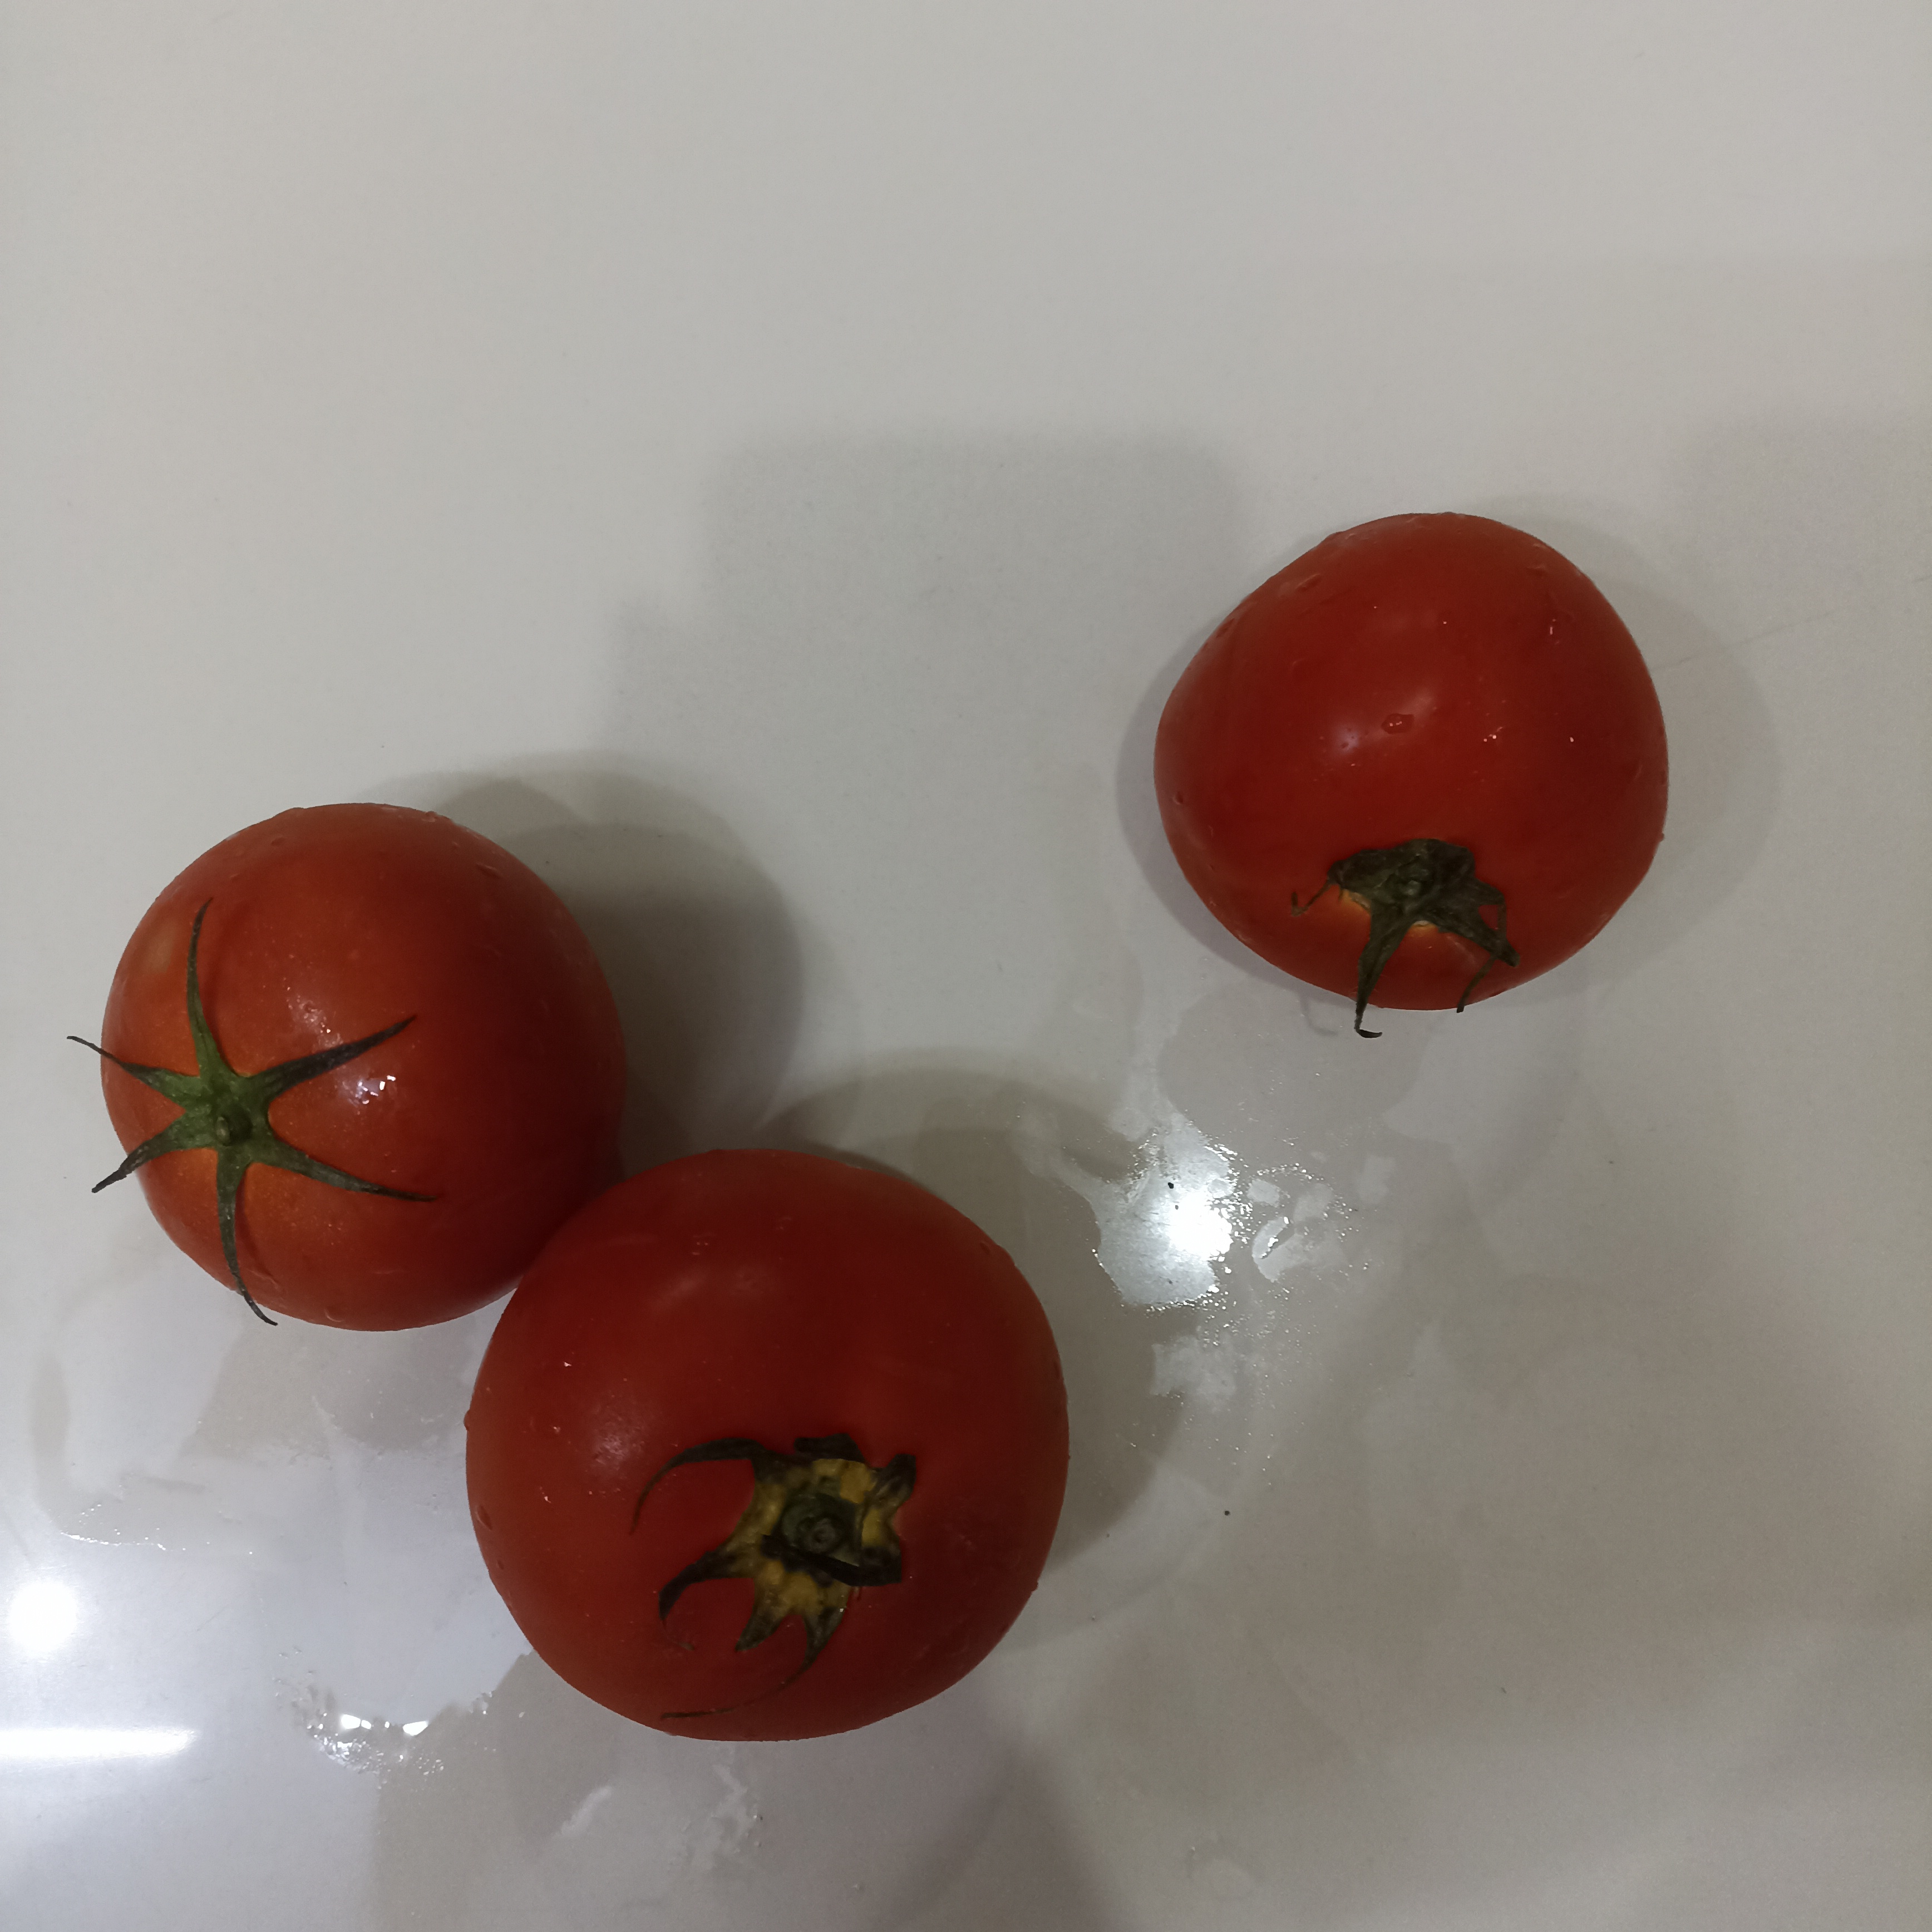Ca chua: (459, 1142, 1068, 1741), (97, 806, 628, 1331), (1149, 514, 1677, 1016)
